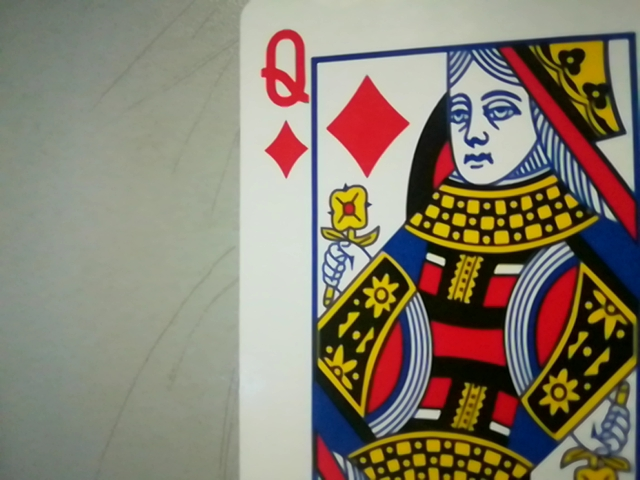fk q: (251, 21, 316, 181)
